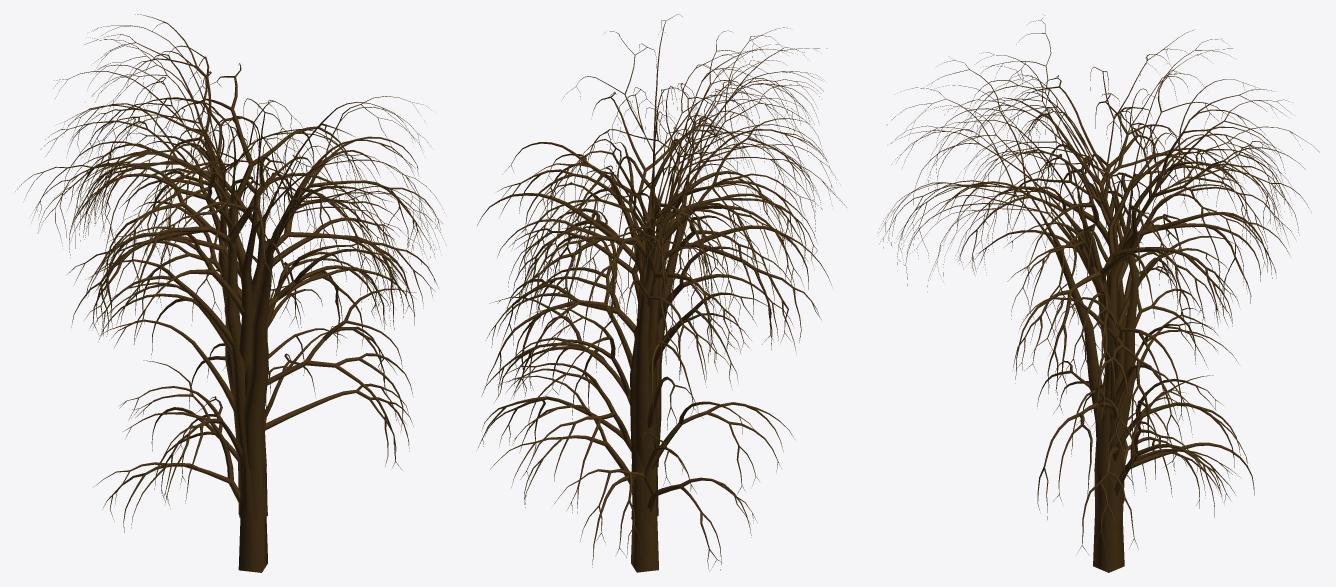
File: DesertTree1.fbx
3 renders of one model, left to right at view 1: azimuth 30°, elevation 25°; view 2: azimuth 150°, elevation 25°; view 3: azimuth 270°, elevation 25°, orthographic. The views are drawn at different scales.
Visible parts, largest first — view 1: DesertTree1; view 2: DesertTree1; view 3: DesertTree1.
Boxes of the visible parts, left/top/right/bottom form: DesertTree1: left=15, top=14, right=444, bottom=572; DesertTree1: left=477, top=14, right=846, bottom=572; DesertTree1: left=877, top=15, right=1319, bottom=572.
Size of the model in its own units: 1392 by 2006 by 1658.
